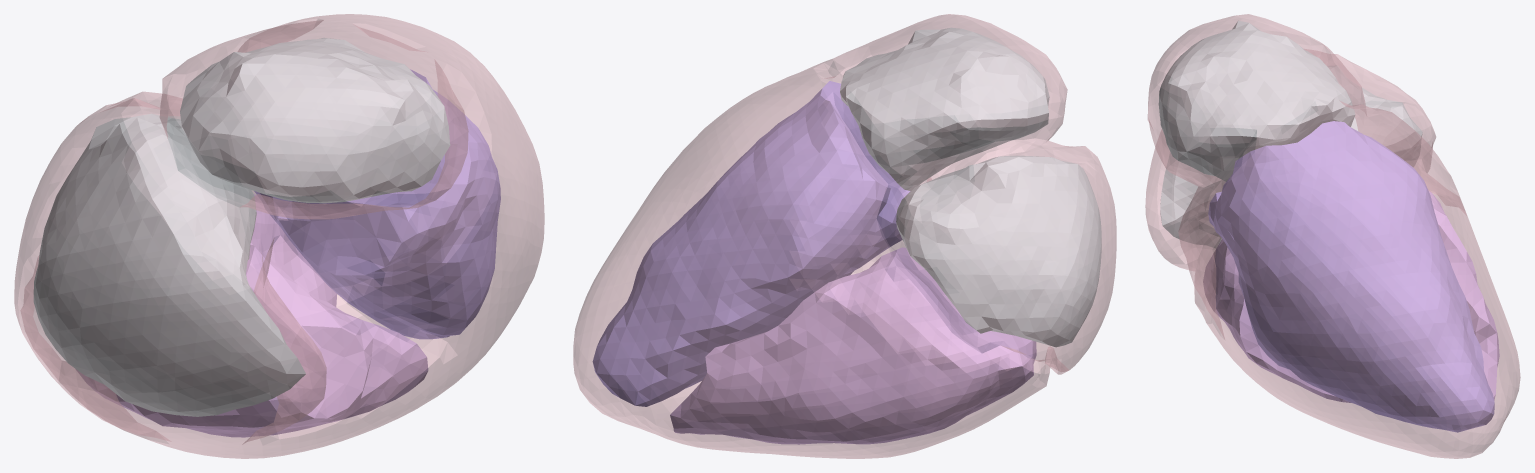
The model's file is heart-four-chamber-STT.glb.
The picture shows the model from 3 angles, left to right: view 1: azimuth 30°, elevation 25°; view 2: azimuth 150°, elevation 25°; view 3: azimuth 270°, elevation 25°; orthographic projection. The views are drawn at different scales.
Visible parts, largest first — view 1: epicardium, right_atrium, left_atrium, left_ventricle, right_ventricle; view 2: epicardium, left_ventricle, right_ventricle, right_atrium, left_atrium; view 3: epicardium, left_ventricle, left_atrium, right_atrium, right_ventricle.
Boxes of the visible parts, x1,y1,x2,y2 form: epicardium: [14, 14, 544, 458]; right_atrium: [33, 113, 305, 416]; left_atrium: [180, 38, 450, 203]; left_ventricle: [254, 69, 500, 339]; right_ventricle: [76, 194, 428, 437]; epicardium: [573, 14, 1116, 458]; left_ventricle: [592, 81, 910, 406]; right_ventricle: [670, 247, 1036, 444]; right_atrium: [896, 155, 1101, 347]; left_atrium: [840, 27, 1049, 190]; epicardium: [1145, 14, 1520, 458]; left_ventricle: [1208, 121, 1494, 432]; left_atrium: [1158, 20, 1355, 181]; right_atrium: [1160, 65, 1422, 247]; right_ventricle: [1203, 190, 1499, 402].
Bounding box in the file's own units: 154 × 121 × 122.
